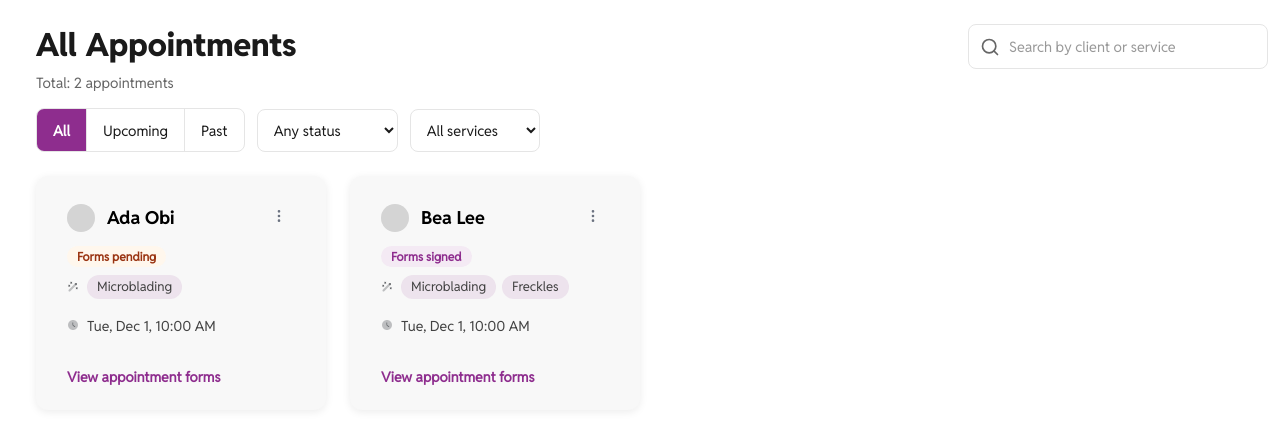
Appointments page › opens the forms for the appointment that was picked
The image size is (1285, 428).
Expected: the heading "Bea Lee" is shown, [421,207,485,229]
Click the button with aria-label "View appointment forms for Bea Lee" at {"x": 495, "y": 377}, box [381,368,609,386]
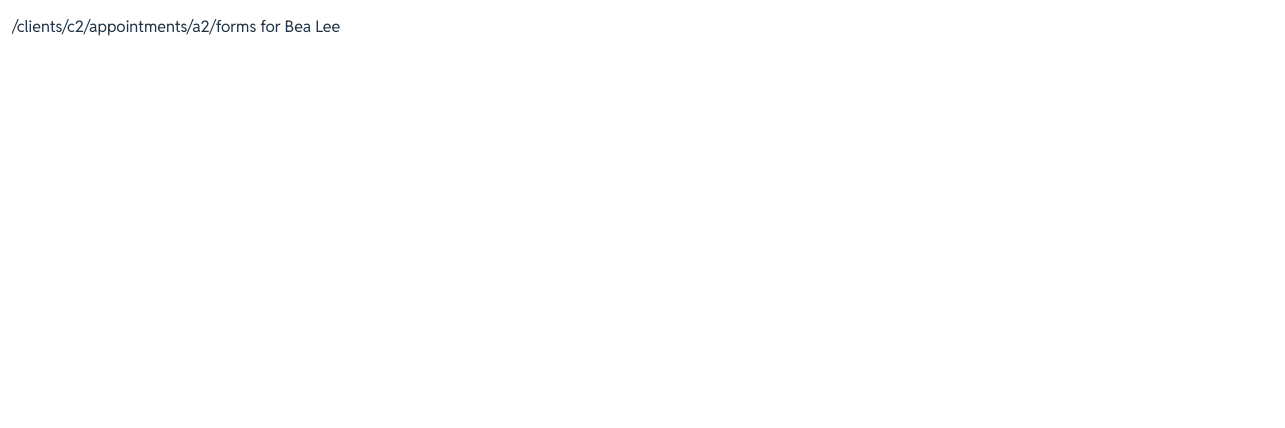
Expected: the text with test id "forms-page" reads "/clients/c2/appointments/a2/forms for Bea Lee", [12,16,340,37]
